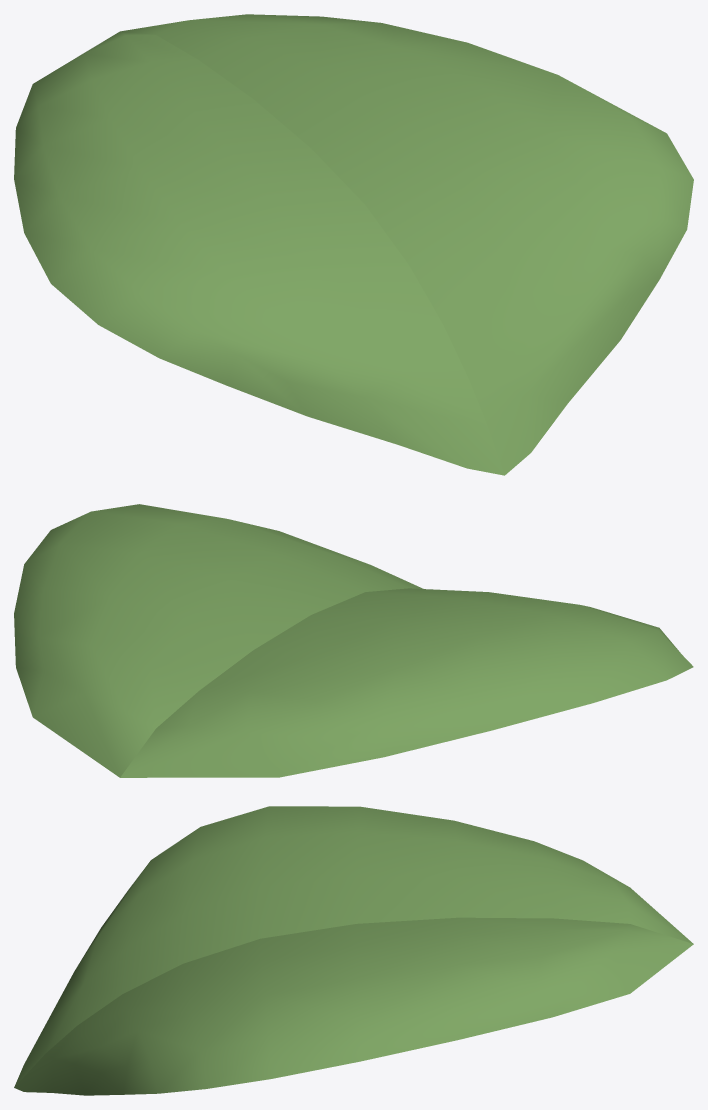
File: MOD_BigLeaf02.fbx
The picture shows the model from 3 angles, top to bottom: view 1: azimuth 30°, elevation 25°; view 2: azimuth 150°, elevation 25°; view 3: azimuth 270°, elevation 25°; orthographic projection. The views are drawn at different scales.
Visible parts, largest first — view 1: MOD_BigLeaf02; view 2: MOD_BigLeaf02; view 3: MOD_BigLeaf02.
Part boxes in pixels (bbox=[...]): MOD_BigLeaf02: bbox=[14, 14, 693, 475]; MOD_BigLeaf02: bbox=[14, 504, 693, 777]; MOD_BigLeaf02: bbox=[14, 806, 693, 1095].
Size of the model in its own units: 8.22 by 2.67 by 8.89.
